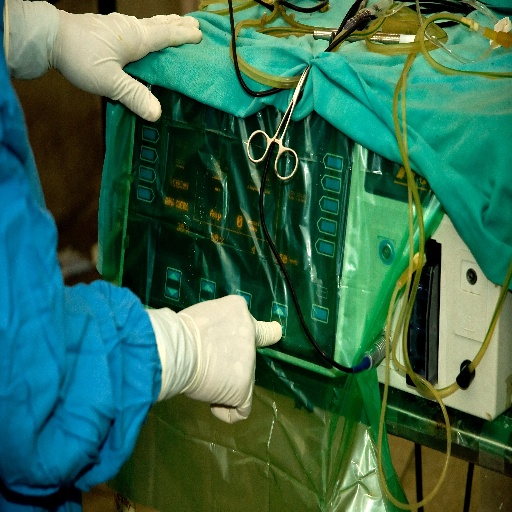hand: (37, 7, 208, 117), (179, 292, 282, 427)
